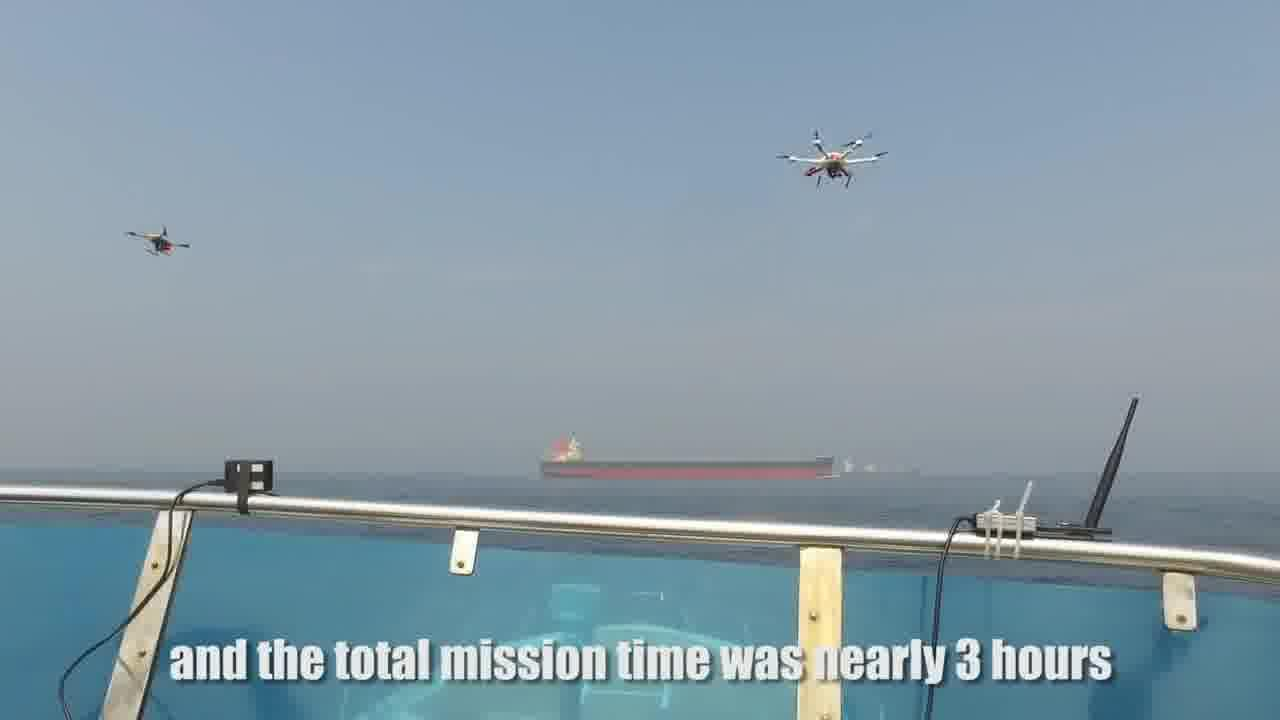drone: (758, 104, 893, 205), (126, 213, 196, 268)
